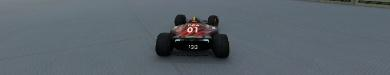Car: (154, 14, 229, 57)
obstacles-Borders: (291, 0, 389, 9)
